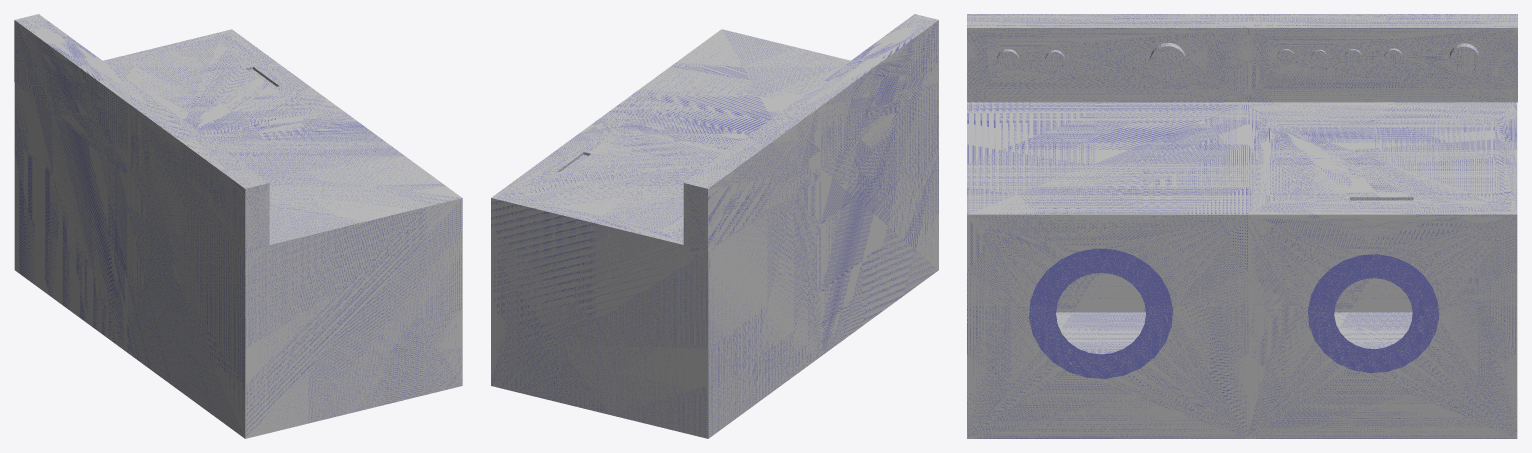
3 renders of one model, left to right at view 1: azimuth 30°, elevation 25°; view 2: azimuth 150°, elevation 25°; view 3: azimuth 270°, elevation 25°, orthographic. The views are drawn at different scales.
Parts seen in each view (by area): view 1: mesh1_mesh1-geometry; view 2: mesh1_mesh1-geometry; view 3: mesh1_mesh1-geometry.
Boxes of the visible parts, x1,y1,x2,y2 form: mesh1_mesh1-geometry: [14, 14, 462, 438]; mesh1_mesh1-geometry: [491, 14, 938, 438]; mesh1_mesh1-geometry: [967, 14, 1517, 438].
Bounding box in the file's own units: 0.4227 × 0.4651 × 0.7778.
